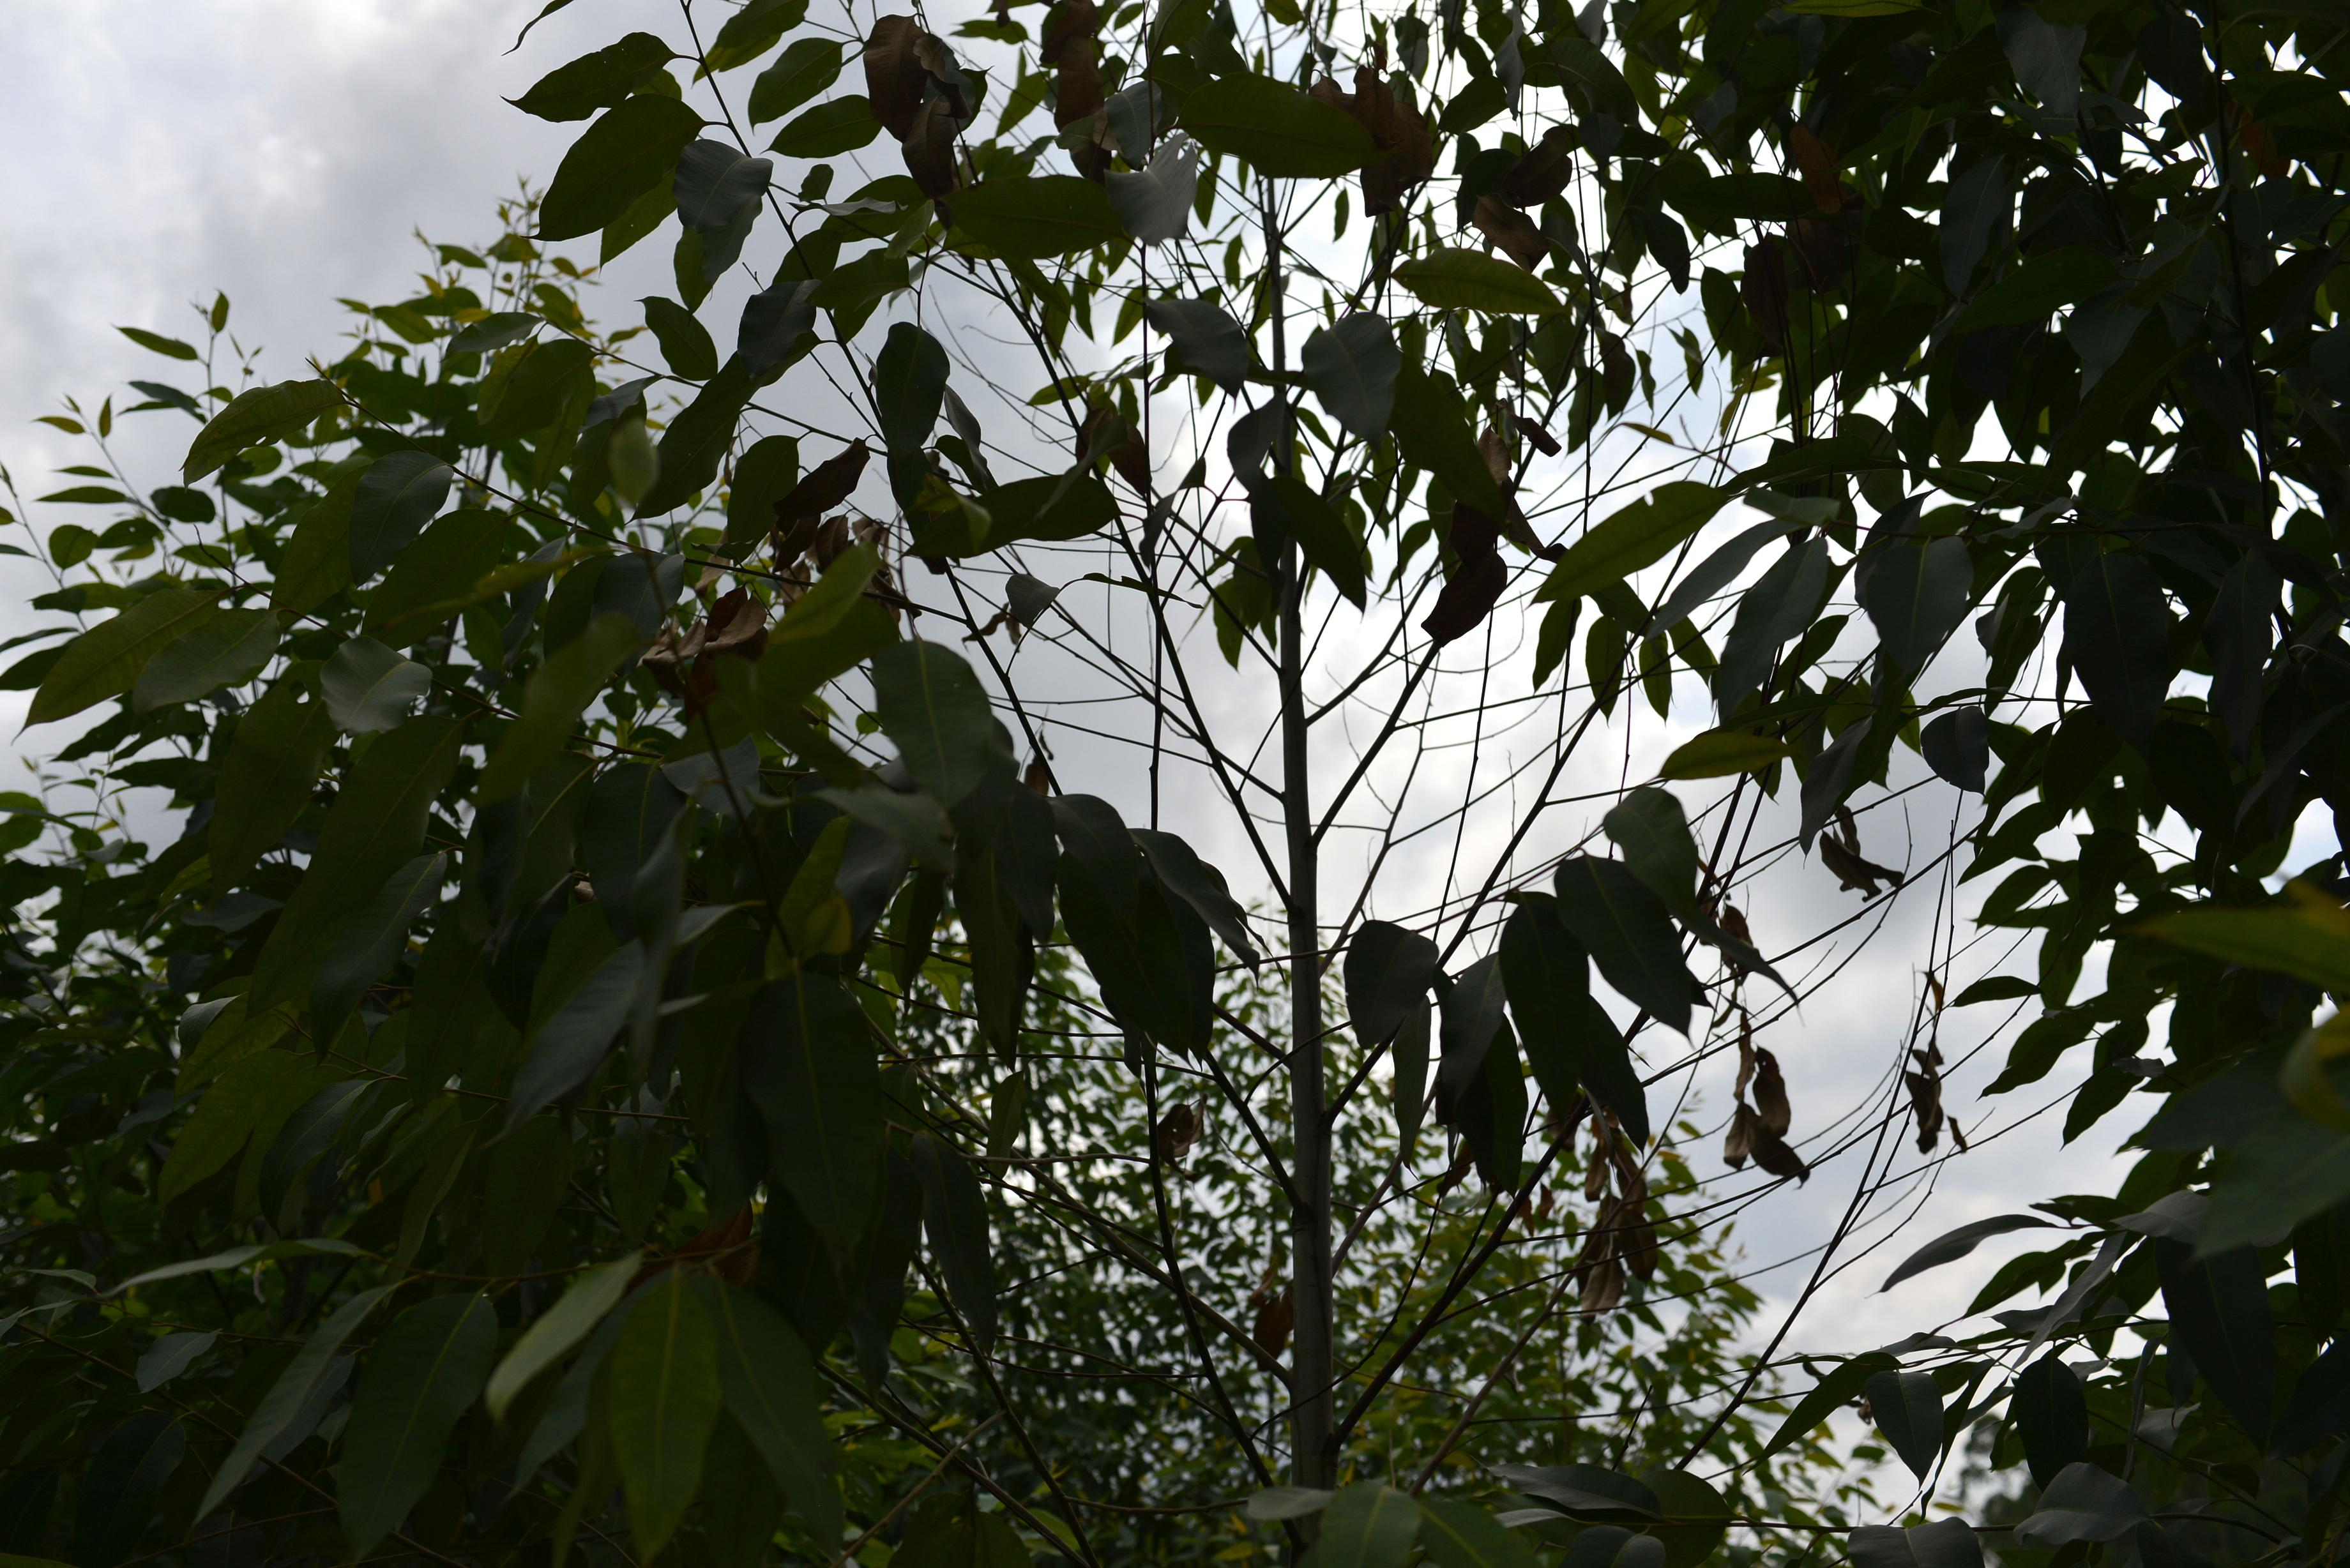Wither Tree Parts: (1536, 1165, 1685, 1339), (646, 572, 803, 724), (870, 44, 987, 227), (1459, 374, 1568, 569), (1706, 1025, 1820, 1195), (992, 724, 1092, 905), (962, 558, 1057, 674), (1129, 1095, 1214, 1200)
